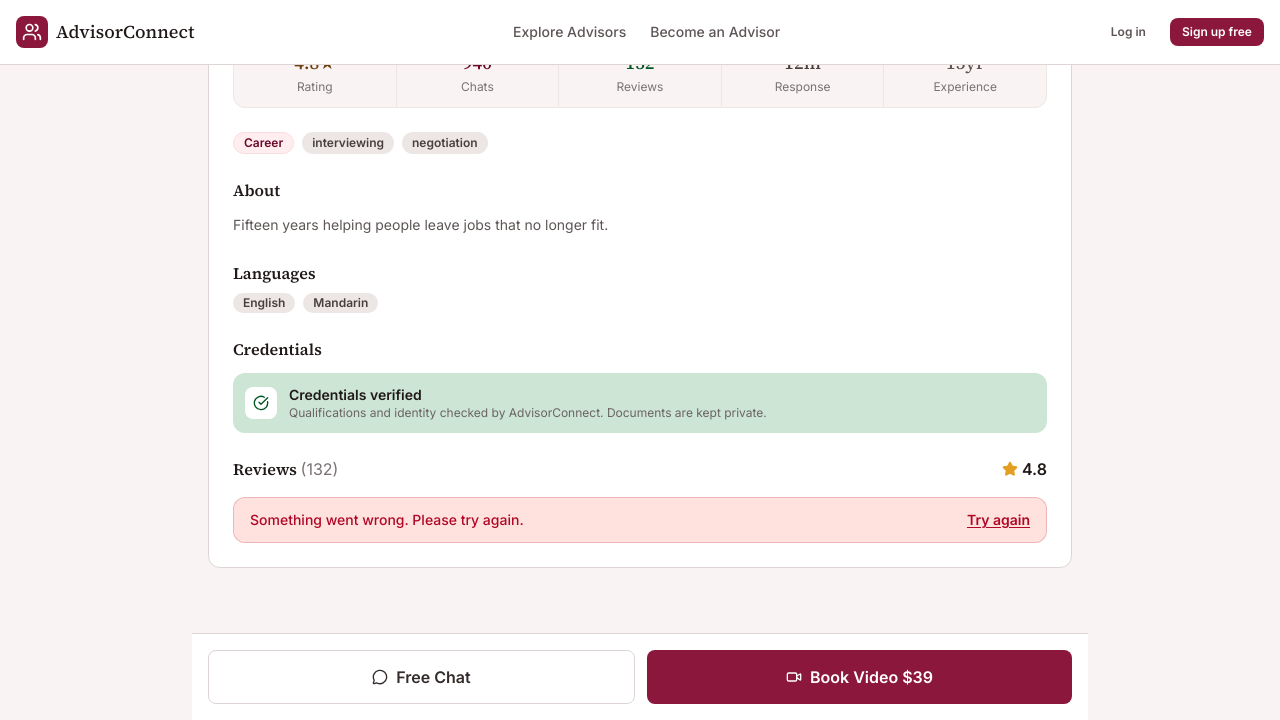
Test: AdvisorProfilePage › reviews › shows an ErrorBanner with a working retry when reviews fail
(page scrolled)
Expected: the message shows "Something went wrong. Please try again.", [250,511,524,528]
Click the button "Try again" at point(998, 520), box [967,510,1030,530]
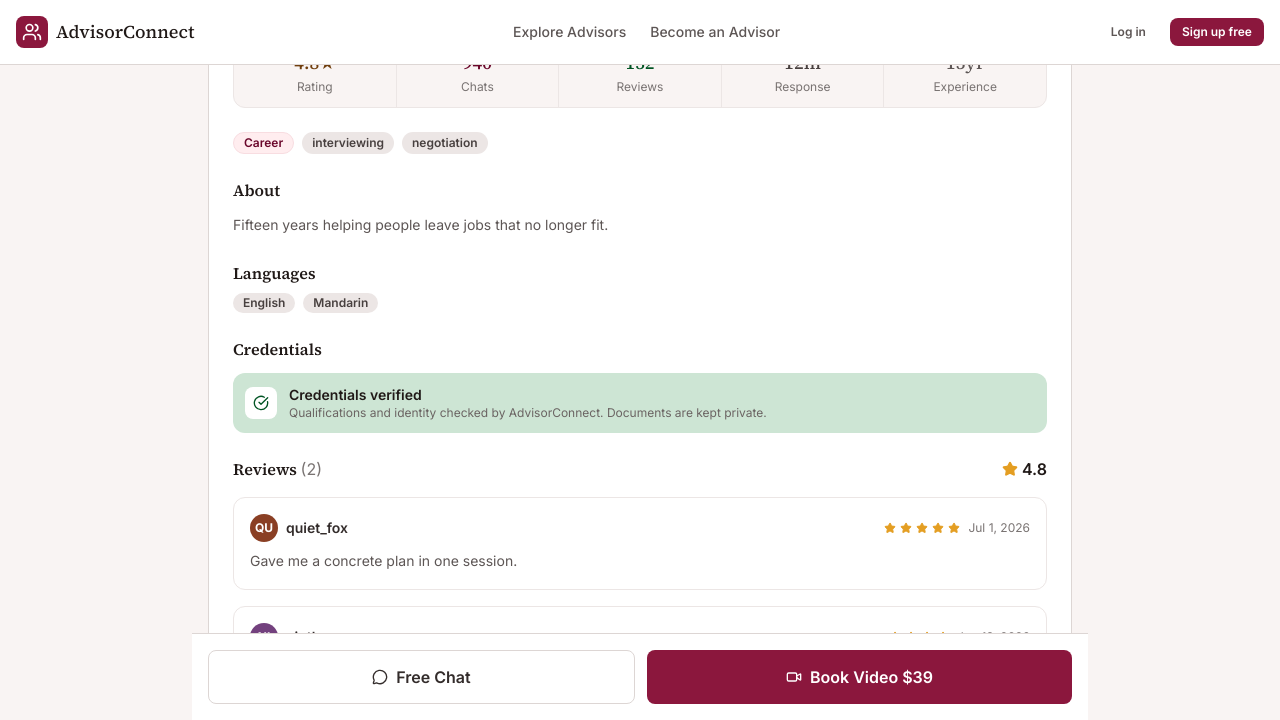
Expected: the text "quiet_fox" is shown, [286,518,348,538]
Expected: the message "Something went wrong. Please try again. Try again" is gone
